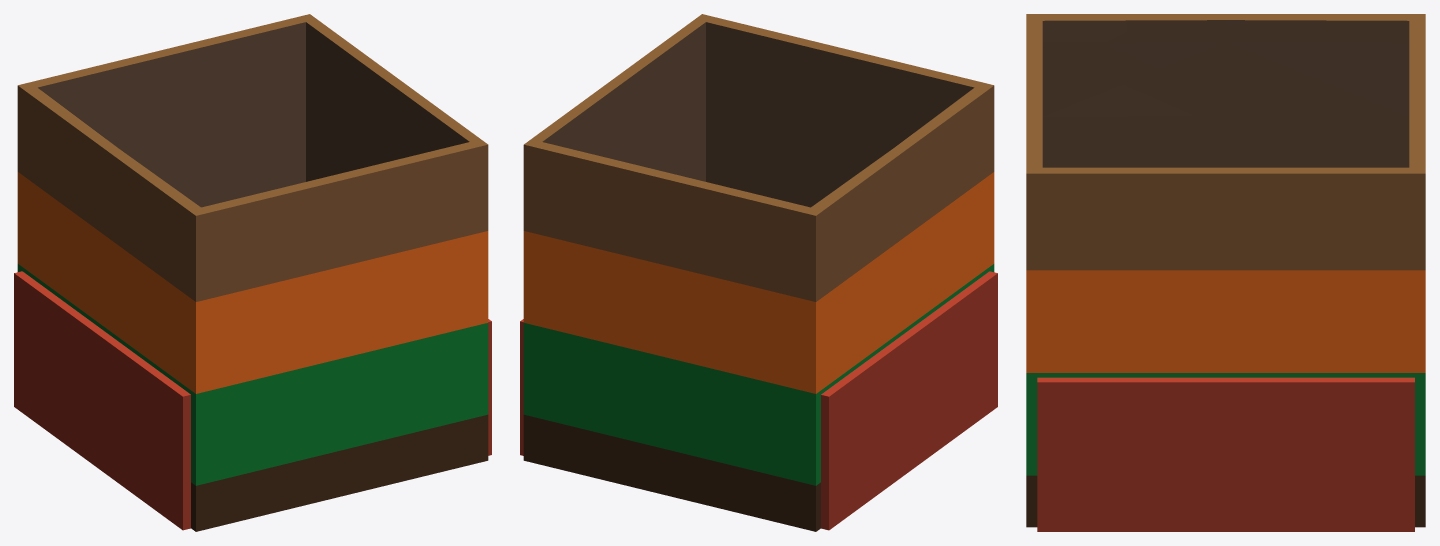
The model's file is Package3.fbx.
3 renders of one model, left to right at view 1: azimuth 30°, elevation 25°; view 2: azimuth 150°, elevation 25°; view 3: azimuth 270°, elevation 25°, orthographic. The views are drawn at different scales.
Parts seen in each view (by area): view 1: takeout_boxcpi, 01_box; view 2: takeout_boxcpi, 01_box; view 3: takeout_boxcpi, 01_box.
Boxes of the visible parts, x1=… form: takeout_boxcpi: x1=17, y1=14, x2=488, y2=531; 01_box: x1=14, y1=271, x2=491, y2=530; takeout_boxcpi: x1=523, y1=14, x2=994, y2=531; 01_box: x1=520, y1=271, x2=997, y2=530; takeout_boxcpi: x1=1026, y1=14, x2=1425, y2=527; 01_box: x1=1037, y1=377, x2=1414, y2=531.
Size of the model in its own units: 101 by 98.92 by 101.
1 material, 1 textured.
